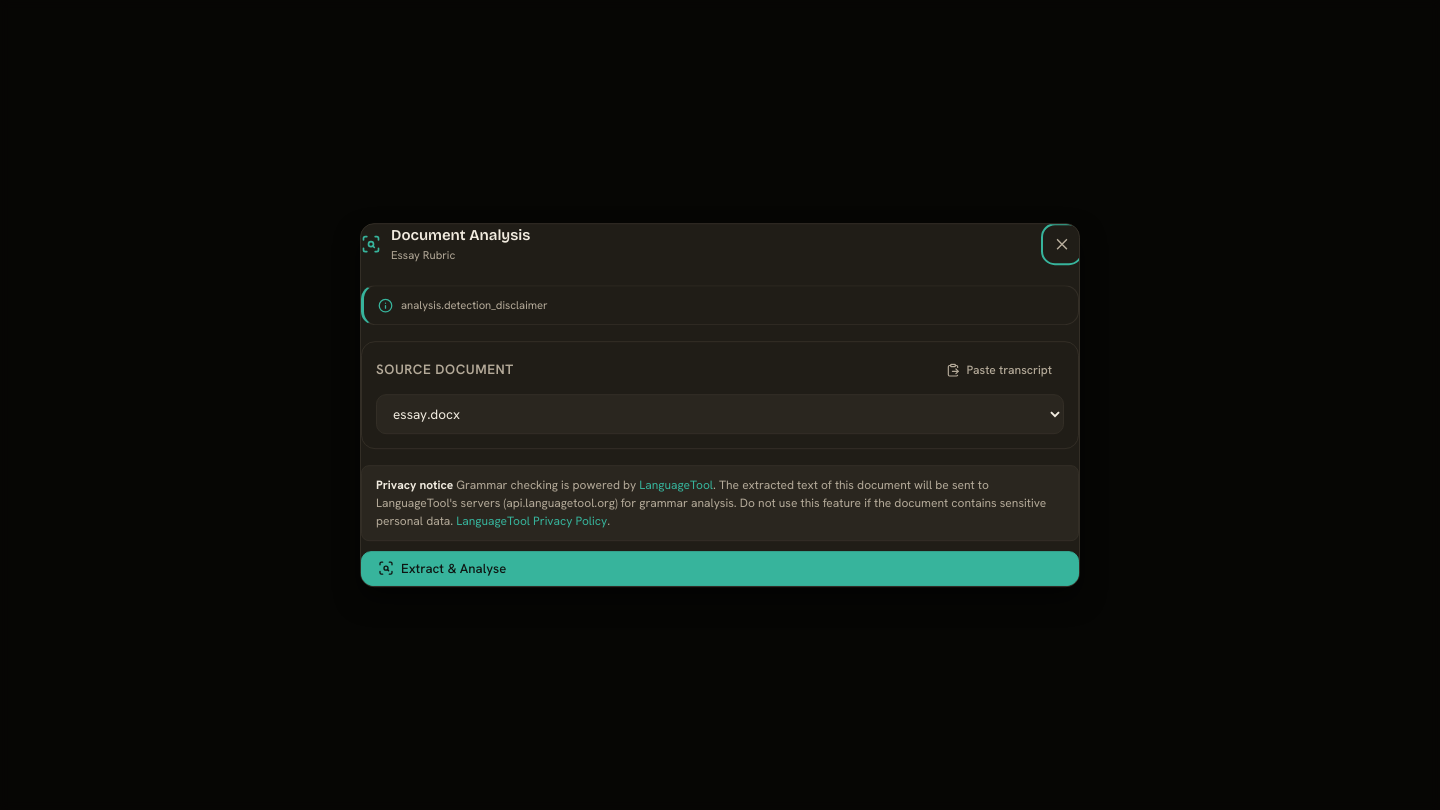
Test: DocumentAnalysisPanel › shows an error phase when extraction throws an UnsupportedFormatError
Click the button "Extract & Analyse".
click(454, 568)  # box [361, 551, 1079, 586]
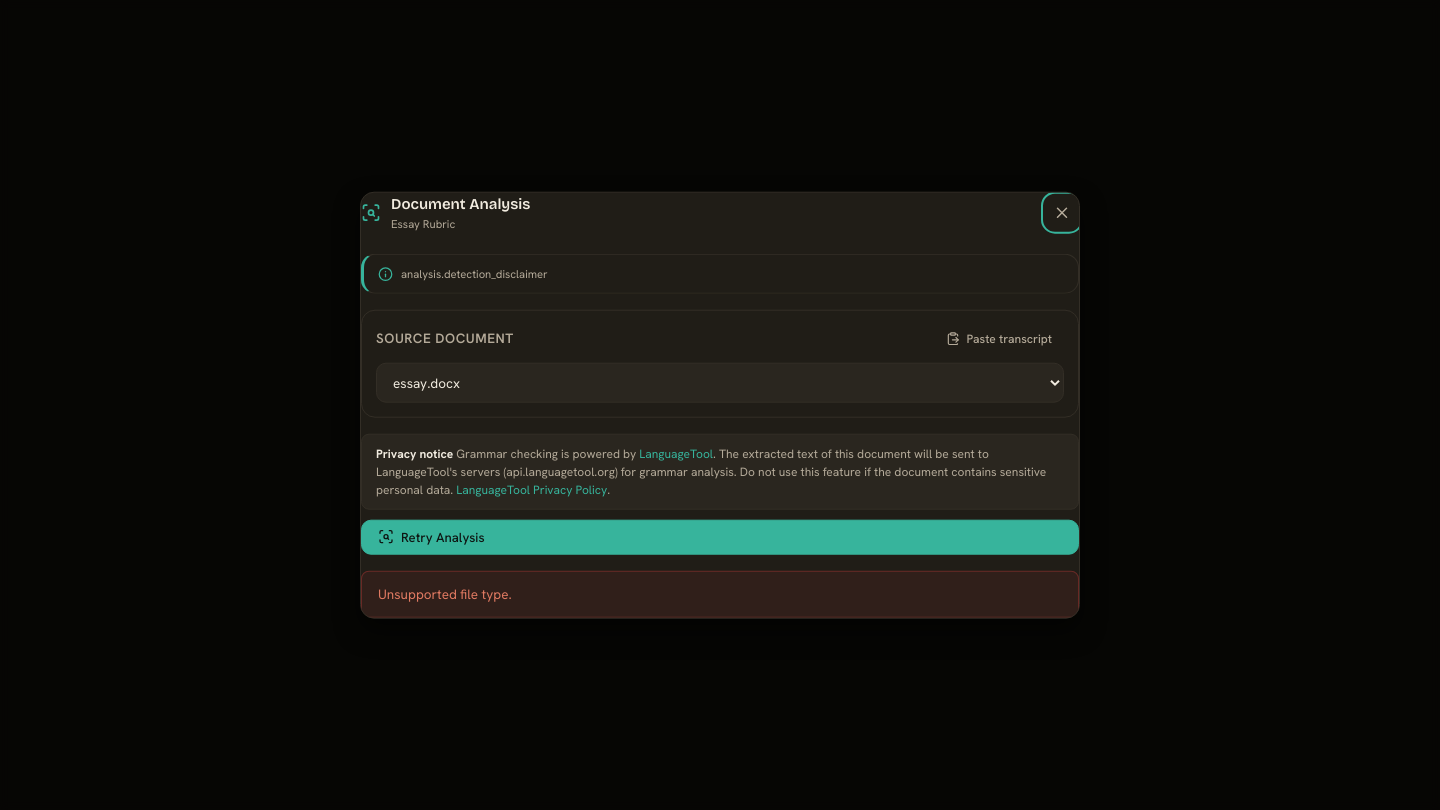
Check: the text "Unsupported file type." is shown, box [378, 584, 512, 602]
Check: the button "Retry Analysis" is shown, box [361, 519, 1079, 554]
